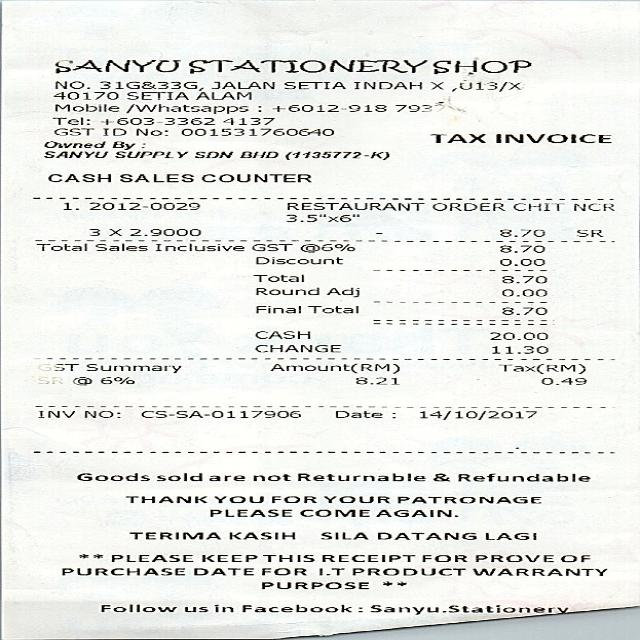text: (48, 55, 529, 73), (366, 604, 568, 613), (268, 362, 399, 373), (140, 410, 299, 418), (123, 104, 245, 114), (178, 128, 330, 136), (415, 410, 533, 420), (494, 133, 610, 143), (472, 568, 605, 576), (457, 473, 589, 481), (293, 472, 422, 480), (96, 116, 210, 125), (100, 79, 201, 89), (495, 363, 585, 374), (61, 568, 182, 576), (85, 363, 181, 373), (240, 604, 360, 612), (286, 202, 422, 209), (349, 568, 464, 576), (274, 104, 386, 112), (88, 202, 200, 210), (393, 496, 538, 502), (202, 173, 310, 181), (260, 580, 367, 588), (285, 150, 387, 158), (322, 554, 414, 562), (254, 305, 356, 312), (151, 243, 240, 251), (255, 256, 341, 264), (452, 80, 518, 90), (208, 508, 290, 516), (111, 554, 192, 562), (474, 554, 552, 562), (349, 79, 418, 88), (282, 214, 358, 222), (376, 532, 475, 538), (118, 173, 192, 181), (74, 472, 148, 480), (100, 604, 174, 612), (255, 344, 339, 351), (124, 495, 206, 502), (375, 509, 456, 516), (428, 133, 484, 143), (296, 508, 366, 516), (225, 532, 295, 540), (255, 285, 317, 294), (125, 532, 218, 538), (283, 79, 344, 88), (71, 375, 132, 384), (51, 91, 116, 99), (110, 150, 184, 157), (51, 103, 115, 111), (43, 174, 107, 182), (431, 202, 504, 209), (127, 228, 200, 235), (210, 80, 272, 88), (123, 91, 185, 99), (42, 140, 104, 148), (192, 568, 252, 576), (300, 243, 353, 252), (489, 346, 548, 354), (322, 495, 388, 502), (498, 306, 544, 316), (219, 116, 270, 125), (194, 91, 250, 99), (43, 150, 106, 157), (200, 554, 255, 562), (538, 376, 586, 385), (34, 361, 77, 371), (93, 242, 146, 250), (393, 104, 444, 112), (249, 272, 300, 280), (155, 472, 200, 481), (35, 242, 85, 250), (262, 554, 312, 562), (488, 332, 545, 339), (324, 285, 360, 296), (334, 410, 383, 418), (255, 330, 308, 337), (498, 228, 544, 236), (500, 288, 546, 296), (421, 554, 466, 562), (260, 568, 305, 576), (514, 203, 565, 210), (482, 532, 533, 539), (498, 244, 542, 252), (213, 495, 262, 502), (356, 375, 398, 383), (33, 410, 75, 418), (572, 203, 613, 211), (109, 140, 145, 149), (250, 243, 290, 251), (34, 374, 63, 385), (269, 495, 314, 502), (498, 258, 542, 265), (54, 79, 88, 88), (51, 116, 88, 124), (83, 410, 120, 418), (502, 275, 544, 282), (252, 473, 288, 481), (319, 532, 367, 538), (51, 128, 90, 135), (238, 150, 276, 157), (193, 150, 231, 157), (134, 128, 167, 136), (208, 474, 244, 481), (318, 566, 343, 576), (558, 554, 588, 562), (575, 228, 601, 235), (180, 604, 202, 612), (214, 603, 232, 612), (101, 128, 124, 135), (61, 202, 78, 210), (431, 472, 448, 480), (106, 228, 121, 235), (430, 80, 442, 88), (86, 228, 99, 235)
